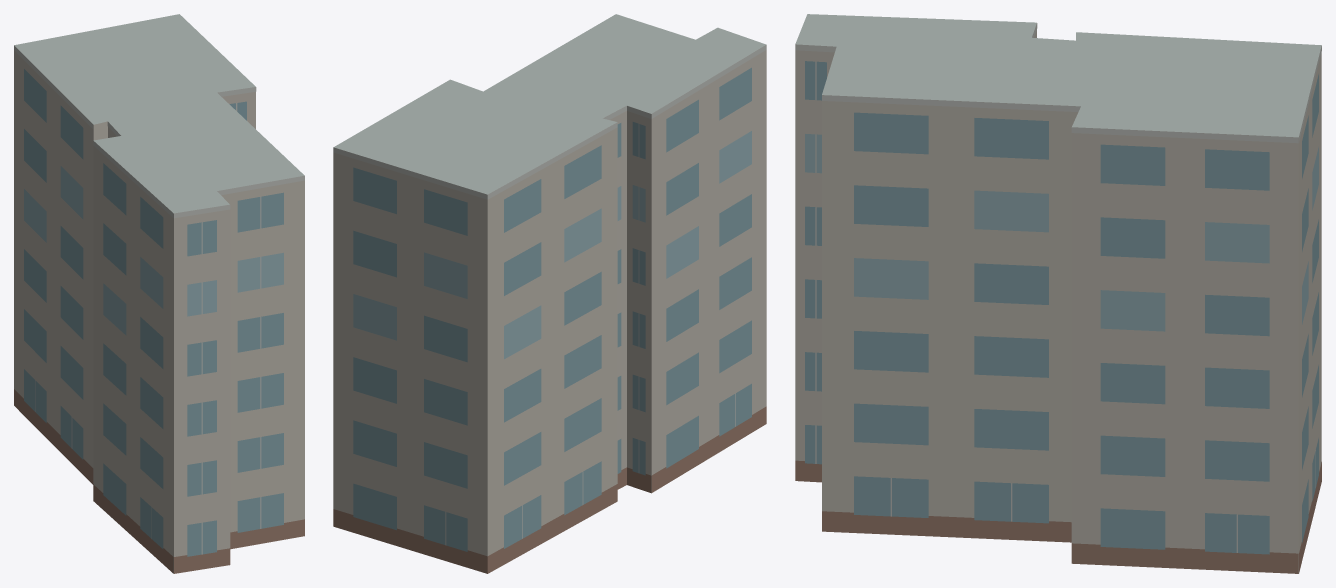
Rendered from survey-upis-32567014.glb.
3 renders of one model, left to right at view 1: azimuth 30°, elevation 25°; view 2: azimuth 150°, elevation 25°; view 3: azimuth 270°, elevation 25°, orthographic. The views are drawn at different scales.
Parts seen in each view (by area): view 1: survey-upis-32567014.tmp; view 2: survey-upis-32567014.tmp; view 3: survey-upis-32567014.tmp.
Boxes of the visible parts, left/top/right/bottom form: survey-upis-32567014.tmp: left=14, top=14, right=304, bottom=573; survey-upis-32567014.tmp: left=333, top=14, right=766, bottom=573; survey-upis-32567014.tmp: left=795, top=14, right=1321, bottom=573.
Size of the model in its own units: 10.98 by 18.1 by 19.8.
